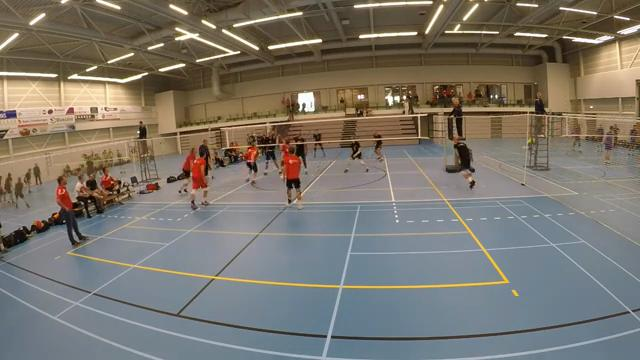Player: (453, 135, 475, 188), (283, 147, 302, 208), (190, 151, 208, 209), (344, 139, 368, 172), (179, 148, 195, 194), (264, 133, 281, 175), (293, 132, 307, 173), (245, 143, 258, 183), (313, 130, 325, 157), (373, 131, 383, 161)
Set: (271, 134, 292, 178)
